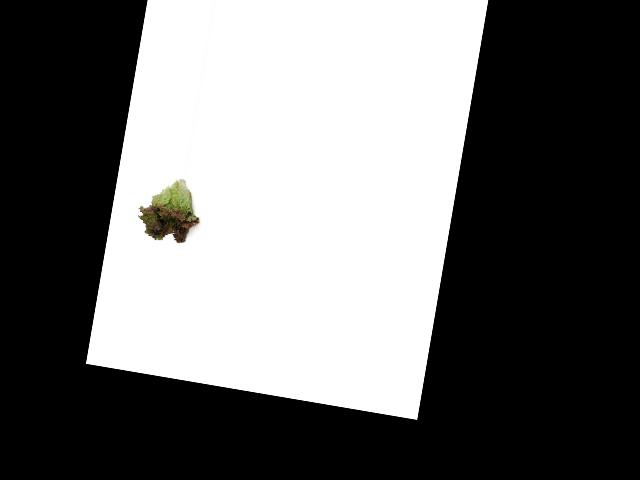lettuce: (130, 170, 211, 255)
